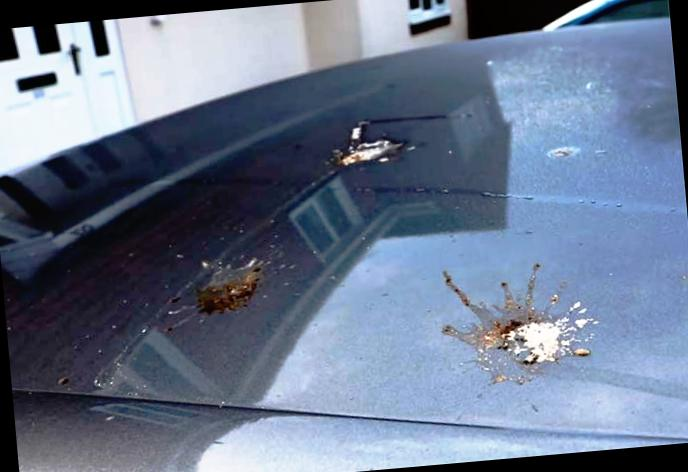Bird Poop: (443, 263, 596, 384), (165, 257, 263, 332), (338, 115, 470, 165), (94, 326, 156, 397), (548, 147, 579, 158)
